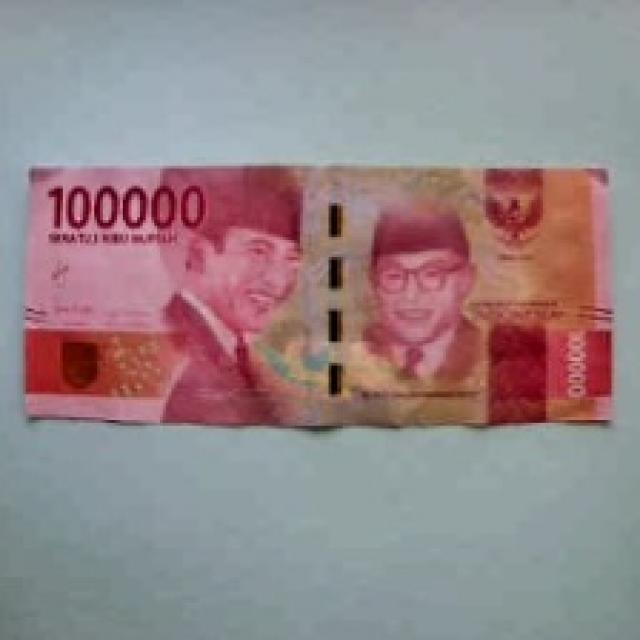lima puluh ribu rupiah: (15, 121, 627, 433)
